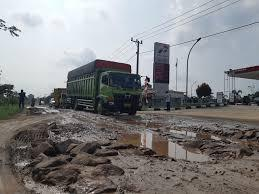Pothole: (89, 114, 257, 178)
